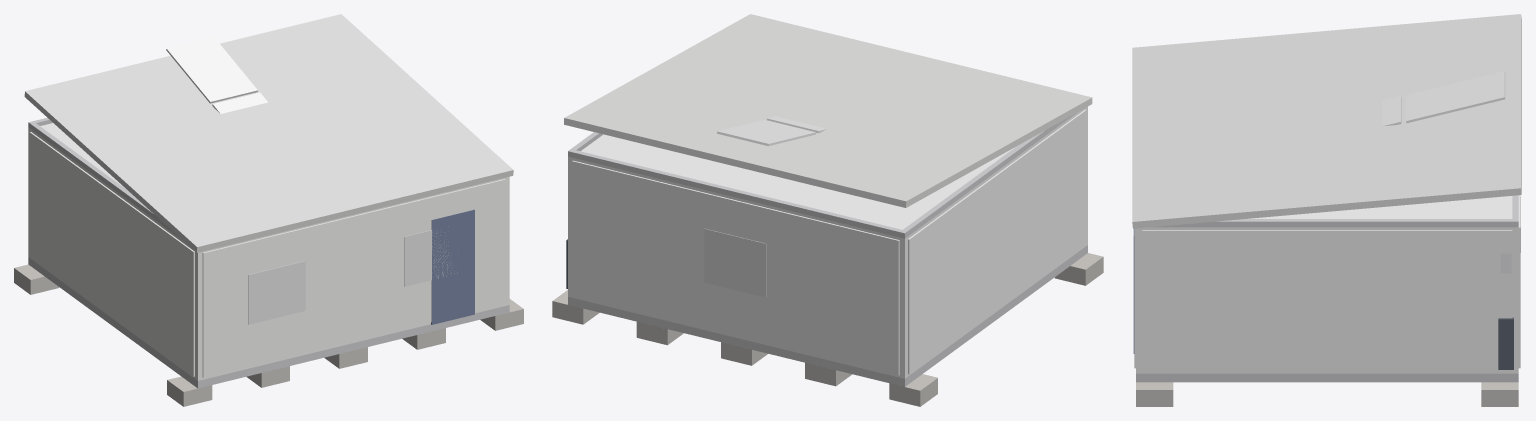
File: Studio-20-SlopingRoof+FullSolar-LOD1.glb
The picture shows the model from 3 angles, left to right: view 1: azimuth 30°, elevation 25°; view 2: azimuth 150°, elevation 25°; view 3: azimuth 270°, elevation 25°; orthographic projection. The views are drawn at different scales.
Visible parts, largest first — view 1: RoofSlopingUpgrade, ExteriorPanelsStandard, EntryDoor, WindowsStandard, FoundationBlocks, SolarPanelArray, ExteriorShell, BaseFrame, TopFrame, InteriorCeiling; view 2: ExteriorPanelsStandard, RoofSlopingUpgrade, InteriorCeiling, ExteriorShell, FoundationBlocks, TopFrame, BaseFrame, WindowsStandard, SolarPanelArray; view 3: RoofSlopingUpgrade, ExteriorPanelsStandard, ExteriorShell, BaseFrame, SolarPanelArray, InteriorCeiling, TopFrame, FoundationBlocks, SolarBattery.
Boxes of the visible parts, left/top/right/bottom form: RoofSlopingUpgrade: left=24, top=14, right=513, bottom=252; ExteriorPanelsStandard: left=29, top=132, right=505, bottom=377; EntryDoor: left=431, top=209, right=474, bottom=324; WindowsStandard: left=248, top=230, right=457, bottom=324; FoundationBlocks: left=14, top=264, right=523, bottom=406; SolarPanelArray: left=166, top=37, right=268, bottom=113; ExteriorShell: left=28, top=127, right=509, bottom=380; BaseFrame: left=28, top=257, right=509, bottom=388; TopFrame: left=28, top=117, right=181, bottom=239; InteriorCeiling: left=40, top=123, right=125, bottom=188; ExteriorPanelsStandard: left=572, top=109, right=1086, bottom=375; RoofSlopingUpgrade: left=564, top=14, right=1092, bottom=207; InteriorCeiling: left=581, top=134, right=1015, bottom=229; ExteriorShell: left=568, top=106, right=1087, bottom=378; FoundationBlocks: left=552, top=253, right=1103, bottom=406; TopFrame: left=568, top=113, right=1075, bottom=238; BaseFrame: left=568, top=245, right=1087, bottom=386; WindowsStandard: left=704, top=228, right=766, bottom=297; SolarPanelArray: left=717, top=116, right=826, bottom=146; RoofSlopingUpgrade: left=1132, top=14, right=1521, bottom=228; ExteriorPanelsStandard: left=1134, top=195, right=1520, bottom=371; ExteriorShell: left=1136, top=227, right=1518, bottom=373; BaseFrame: left=1136, top=373, right=1518, bottom=382; SolarPanelArray: left=1382, top=71, right=1505, bottom=126; InteriorCeiling: left=1248, top=196, right=1512, bottom=218; TopFrame: left=1152, top=195, right=1518, bottom=227; FoundationBlocks: left=1136, top=382, right=1518, bottom=406; SolarBattery: left=1498, top=317, right=1513, bottom=369.
Bounding box in the file's own units: 7.14 × 4.07 × 6.27.
